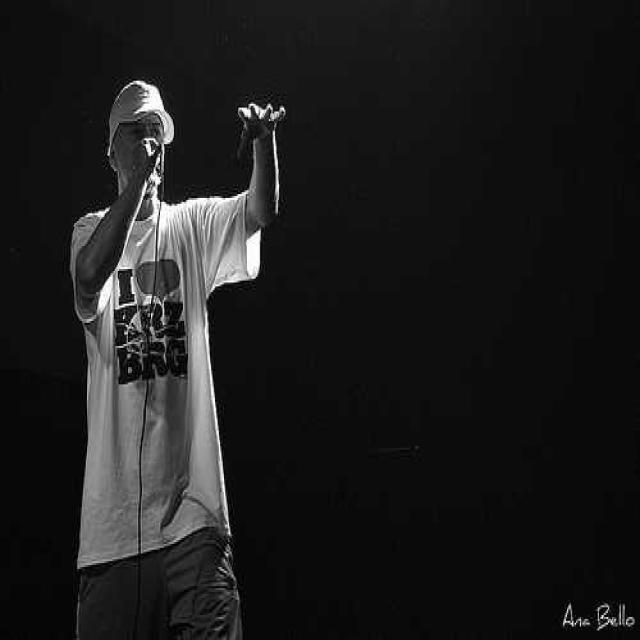microphone: (136, 129, 173, 177)
